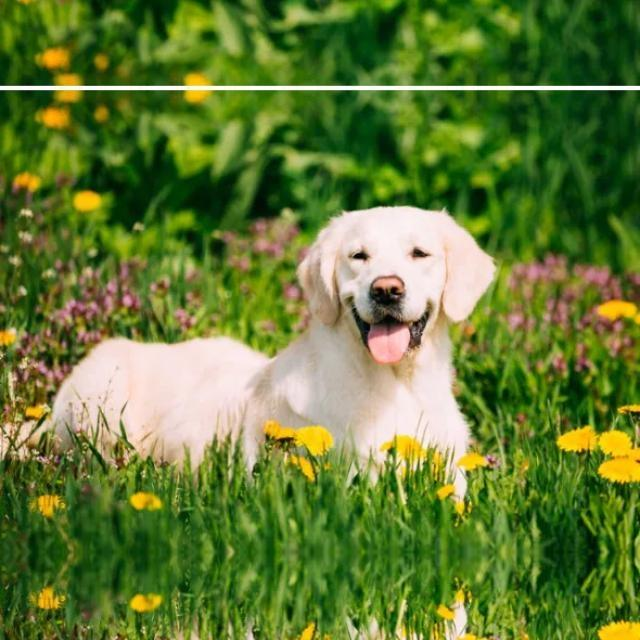dog: (42, 183, 506, 472), (42, 629, 506, 640)
